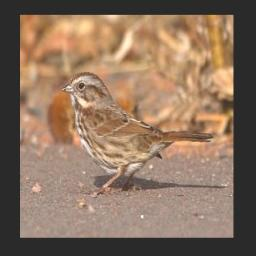Sparrow: (62, 67, 216, 198)
